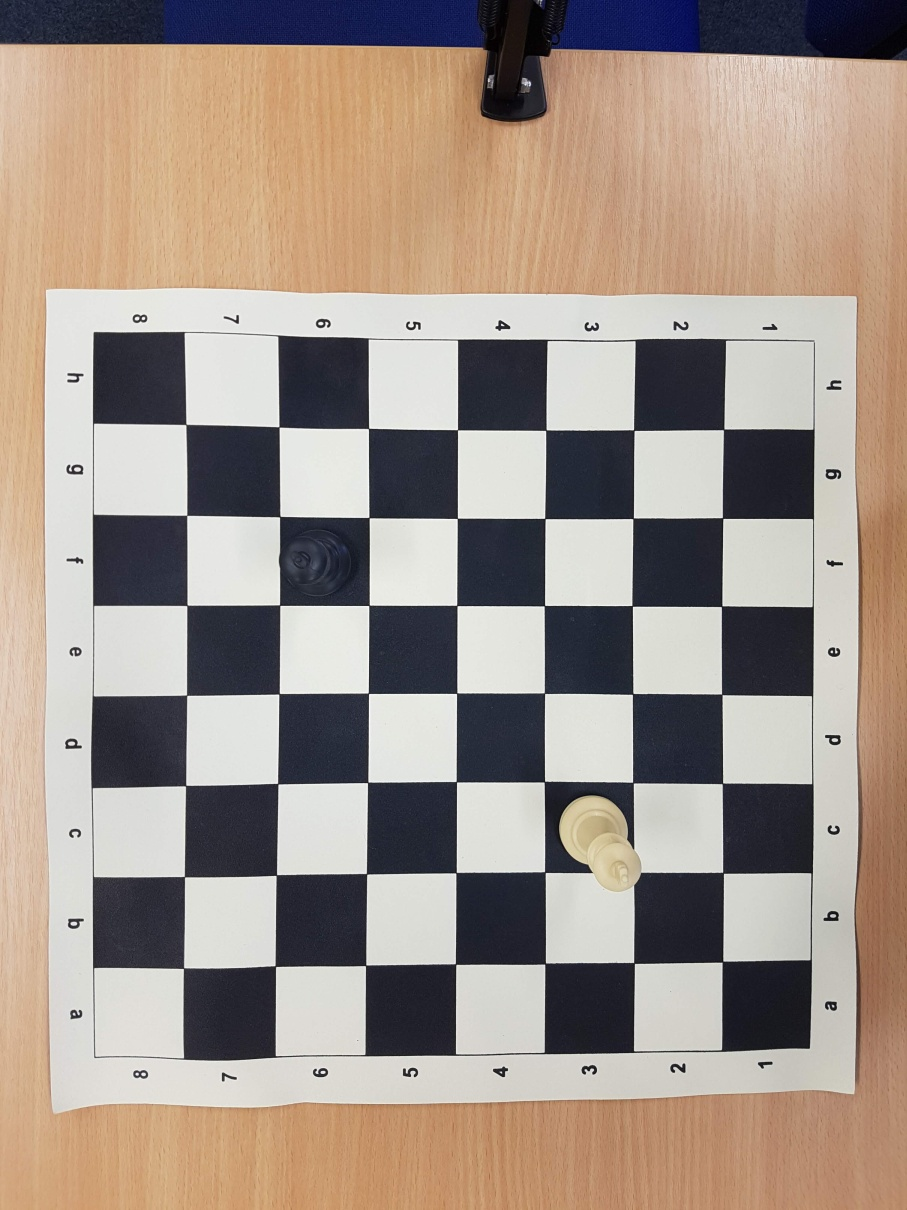chess_king: (558, 795, 642, 890), (275, 527, 357, 598)
